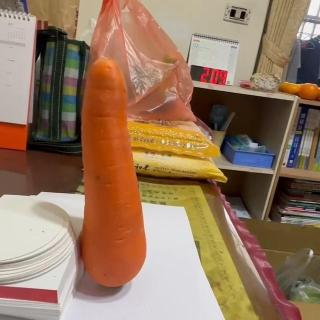carrot: (80, 59, 150, 288)
